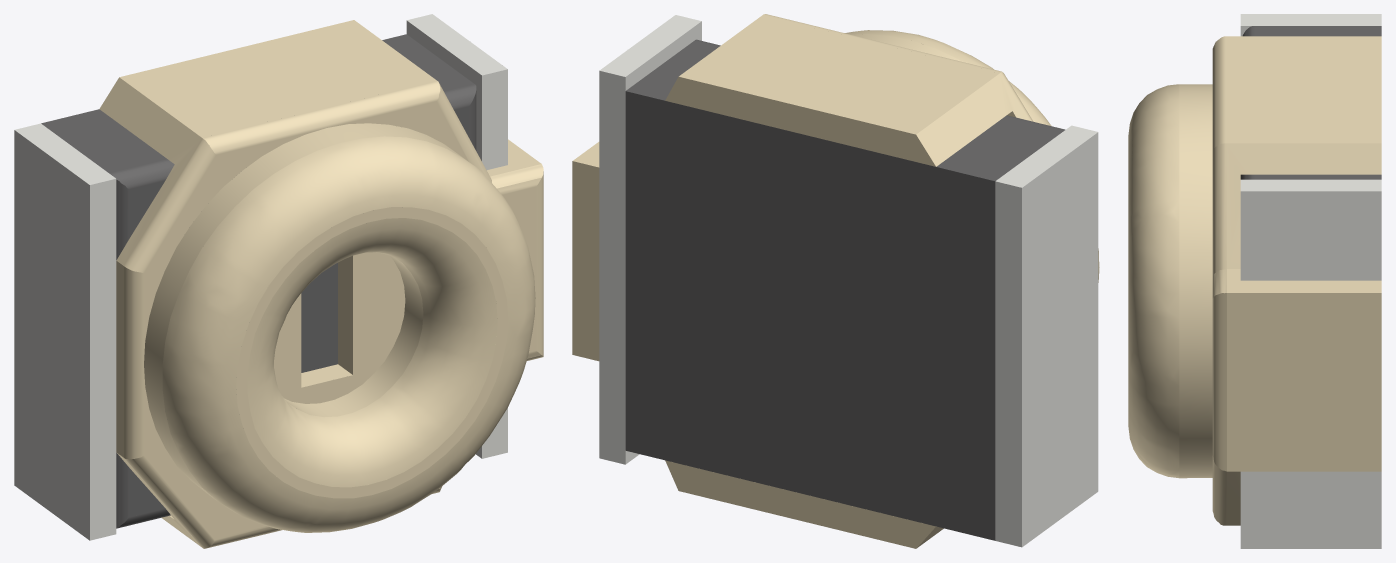
File: C_Trimmer_Murata_TZR1.glb
3 views of the same model, side by side, from view 1: azimuth 30°, elevation 25°; view 2: azimuth 150°, elevation 25°; view 3: azimuth 270°, elevation 25° (orthographic). The views are drawn at different scales.
Parts seen in each view (by area): view 1: Shape_IndexedFaceSet.052, Shape_IndexedFaceSet.066, Shape_IndexedFaceSet.058, Shape_IndexedFaceSet, Shape_IndexedFaceSet.030, Shape_IndexedFaceSet.062, Shape_IndexedFaceSet.065, Shape_IndexedFaceSet.068, Shape_IndexedFaceSet.004, Shape_IndexedFaceSet.002, Shape_IndexedFaceSet.067, Shape_IndexedFaceSet.013 (+25 smaller); view 2: Shape_IndexedFaceSet.015, Shape_IndexedFaceSet.058, Shape_IndexedFaceSet, Shape_IndexedFaceSet.036, Shape_IndexedFaceSet.033, Shape_IndexedFaceSet.003, Shape_IndexedFaceSet.034, Shape_IndexedFaceSet.025, Shape_IndexedFaceSet.004, Shape_IndexedFaceSet.017, Shape_IndexedFaceSet.038, Shape_IndexedFaceSet.044 (+5 smaller); view 3: Shape_IndexedFaceSet.023, Shape_IndexedFaceSet.052, Shape_IndexedFaceSet, Shape_IndexedFaceSet.030, Shape_IndexedFaceSet.026, Shape_IndexedFaceSet.059, Shape_IndexedFaceSet.001, Shape_IndexedFaceSet.050, Shape_IndexedFaceSet.006, Shape_IndexedFaceSet.008, Shape_IndexedFaceSet.044, Shape_IndexedFaceSet.038 (+6 smaller).
Part boxes in pixels (<box>): Shape_IndexedFaceSet.052: <box>162,136,535,532</box>; Shape_IndexedFaceSet.066: <box>247,218,497,487</box>; Shape_IndexedFaceSet.058: <box>14,130,89,540</box>; Shape_IndexedFaceSet: <box>119,20,436,137</box>; Shape_IndexedFaceSet.030: <box>144,123,466,500</box>; Shape_IndexedFaceSet.062: <box>90,179,116,540</box>; Shape_IndexedFaceSet.065: <box>236,207,508,498</box>; Shape_IndexedFaceSet.068: <box>274,252,405,403</box>; Shape_IndexedFaceSet.004: <box>99,77,201,265</box>; Shape_IndexedFaceSet.002: <box>202,80,440,154</box>; Shape_IndexedFaceSet.067: <box>284,255,423,417</box>; Shape_IndexedFaceSet.013: <box>144,129,322,360</box>; Shape_IndexedFaceSet.015: <box>625,91,995,540</box>; Shape_IndexedFaceSet.058: <box>1022,132,1098,547</box>; Shape_IndexedFaceSet: <box>679,15,999,134</box>; Shape_IndexedFaceSet.036: <box>599,70,625,464</box>; Shape_IndexedFaceSet.033: <box>995,181,1021,547</box>; Shape_IndexedFaceSet.003: <box>665,76,935,166</box>; Shape_IndexedFaceSet.034: <box>665,460,935,548</box>; Shape_IndexedFaceSet.025: <box>572,161,599,361</box>; Shape_IndexedFaceSet.004: <box>916,73,1028,166</box>; Shape_IndexedFaceSet.017: <box>936,117,1063,181</box>; Shape_IndexedFaceSet.038: <box>996,125,1097,187</box>; Shape_IndexedFaceSet.044: <box>600,15,701,76</box>; Shape_IndexedFaceSet.023: <box>1227,293,1381,471</box>; Shape_IndexedFaceSet.052: <box>1128,84,1179,477</box>; Shape_IndexedFaceSet: <box>1227,36,1381,143</box>; Shape_IndexedFaceSet.030: <box>1179,84,1212,478</box>; Shape_IndexedFaceSet.026: <box>1240,191,1381,280</box>; Shape_IndexedFaceSet.059: <box>1240,471,1381,548</box>; Shape_IndexedFaceSet.001: <box>1227,143,1381,268</box>; Shape_IndexedFaceSet.050: <box>1212,293,1226,471</box>; Shape_IndexedFaceSet.006: <box>1227,269,1381,292</box>; Shape_IndexedFaceSet.008: <box>1212,143,1226,276</box>; Shape_IndexedFaceSet.044: <box>1240,179,1381,191</box>; Shape_IndexedFaceSet.038: <box>1240,14,1381,25</box>.
Bounding box in the file's own units: 0.67 × 0.59 × 0.354.
